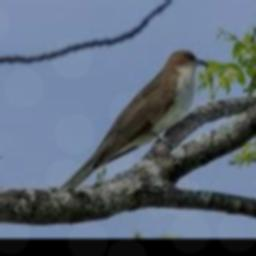Cuckoo: (59, 49, 208, 188)
